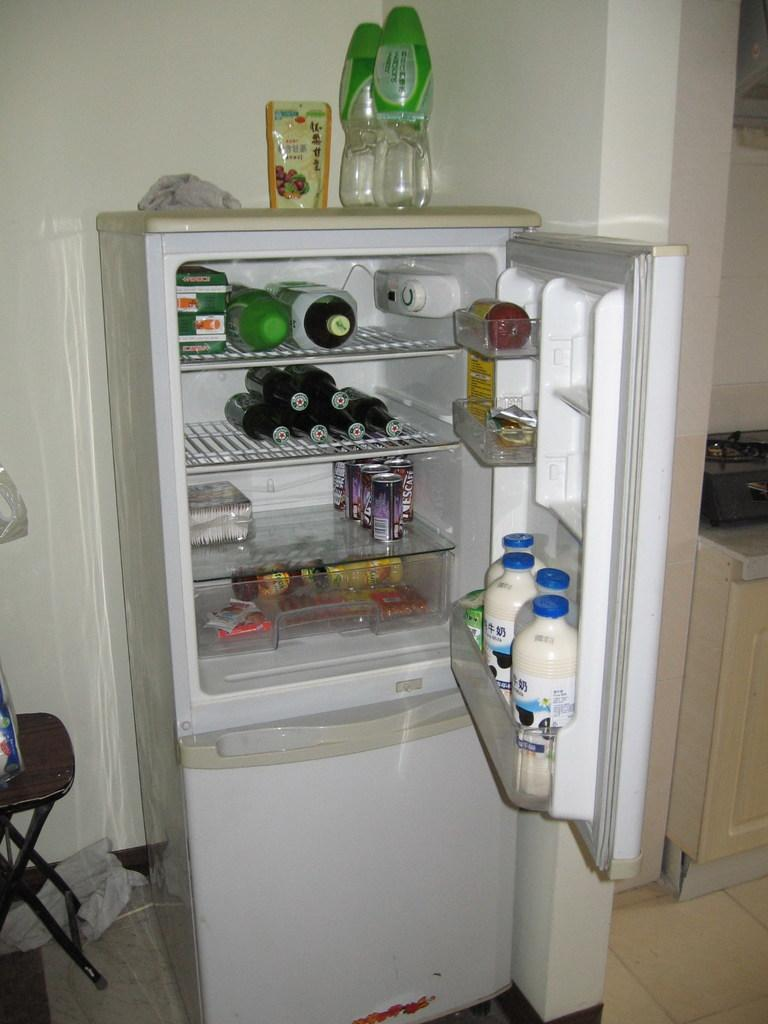cabinet_door: (725, 609, 768, 832)
handle: (230, 717, 468, 744)
